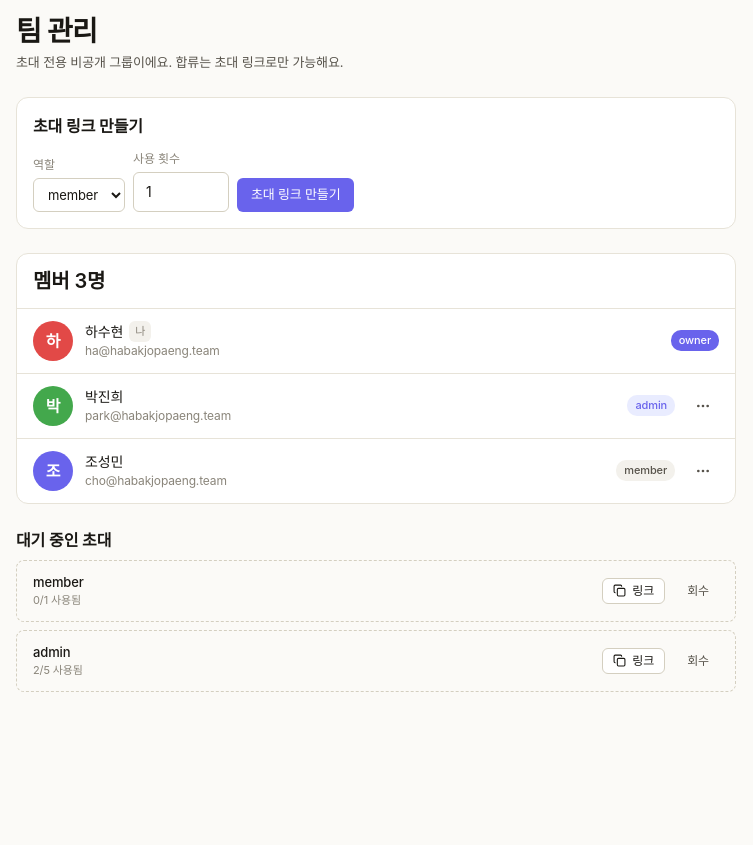
Test case: TeamManager › 이메일 입력은 없고, owner는 역할·횟수로 초대 링크를 만든다
// 역할·사용 횟수 입력 후 링크 생성.
Select "member" in the dropdown named "초대 역할" at coordinates (79, 194), box [33,178,125,212]
Replace the text in the number field labelled "사용 횟수" with "3" at coordinates (181, 192), box [133,172,229,212]
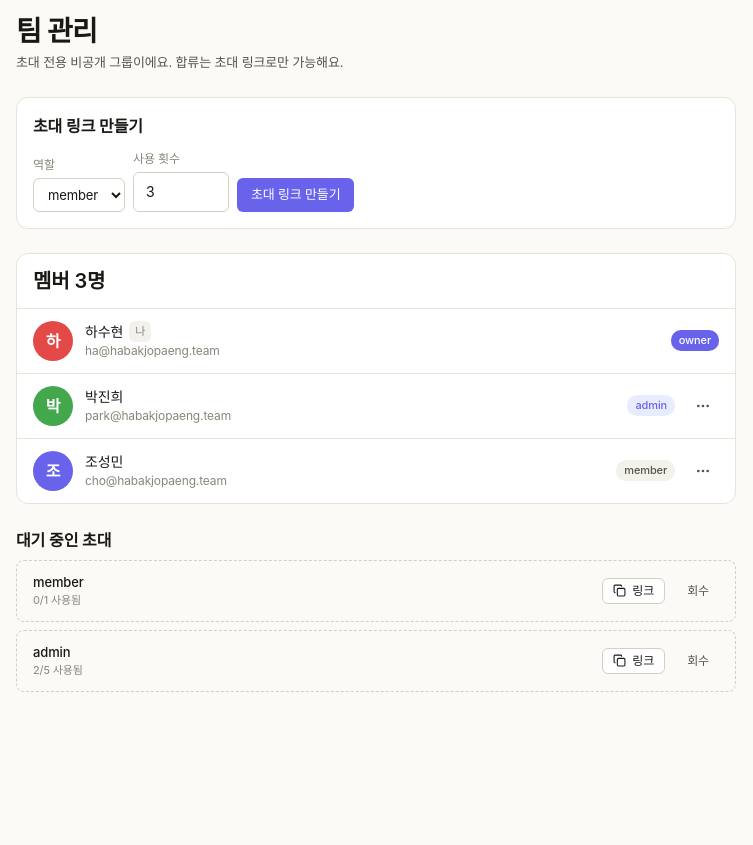
Click the button "초대 링크 만들기" at coordinates (296, 195), box [237,178,354,212]
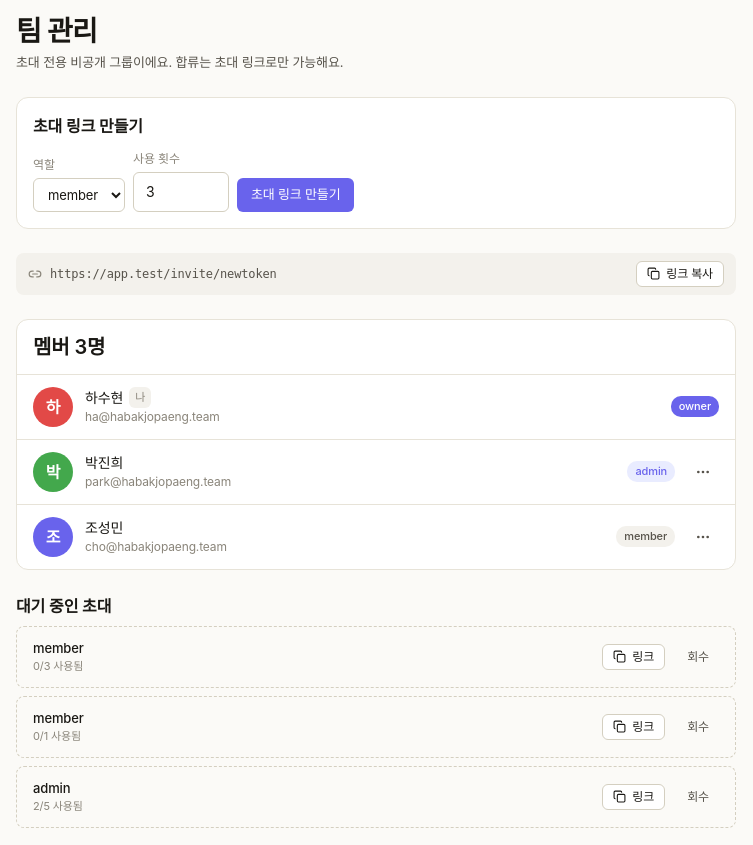
expect the text "https://app.test/invite/newtoken" is shown: met, box [50,266,277,280]
